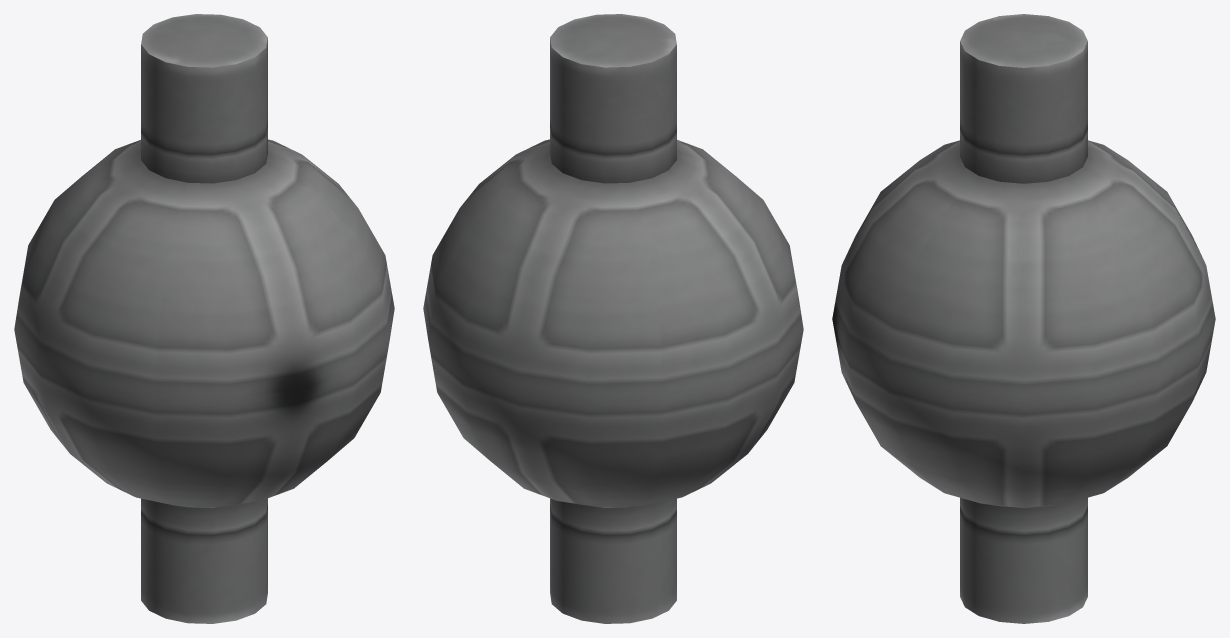
The model's file is cervantes_gyro_srf_1.obj.
3 views of the same model, side by side, from view 1: azimuth 30°, elevation 25°; view 2: azimuth 150°, elevation 25°; view 3: azimuth 270°, elevation 25° (orthographic).
Visible parts, largest first — view 1: cervantes_gyro_srf_1; view 2: cervantes_gyro_srf_1; view 3: cervantes_gyro_srf_1.
Part boxes in pixels (bbox=[...]): cervantes_gyro_srf_1: bbox=[14, 14, 394, 623]; cervantes_gyro_srf_1: bbox=[423, 14, 803, 623]; cervantes_gyro_srf_1: bbox=[832, 14, 1215, 623].
Bounding box in the file's own units: 0.375 × 0.6125 × 0.375.
